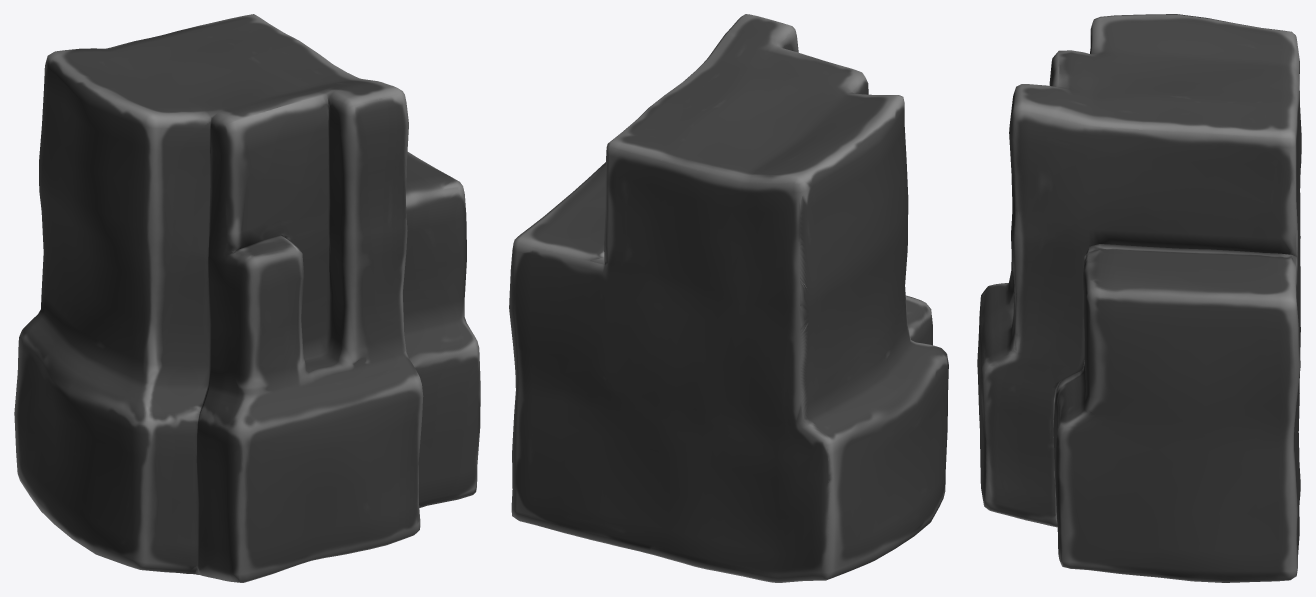
The model's file is CTS_E_CliffCapD.fbx.
3 renders of one model, left to right at view 1: azimuth 30°, elevation 25°; view 2: azimuth 150°, elevation 25°; view 3: azimuth 270°, elevation 25°, orthographic. The views are drawn at different scales.
Parts seen in each view (by area): view 1: CTS_E_CliffCapD; view 2: CTS_E_CliffCapD; view 3: CTS_E_CliffCapD.
Part boxes in pixels (bbox=[...]): CTS_E_CliffCapD: bbox=[14, 14, 480, 582]; CTS_E_CliffCapD: bbox=[509, 14, 948, 582]; CTS_E_CliffCapD: bbox=[977, 14, 1301, 582].
Size of the model in its own units: 3450 by 4169 by 2820.
